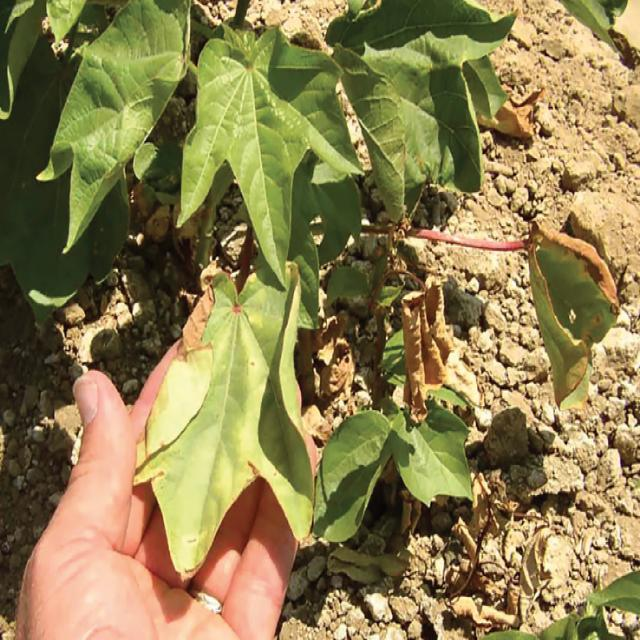Bacterial Blight: (158, 264, 247, 478)
